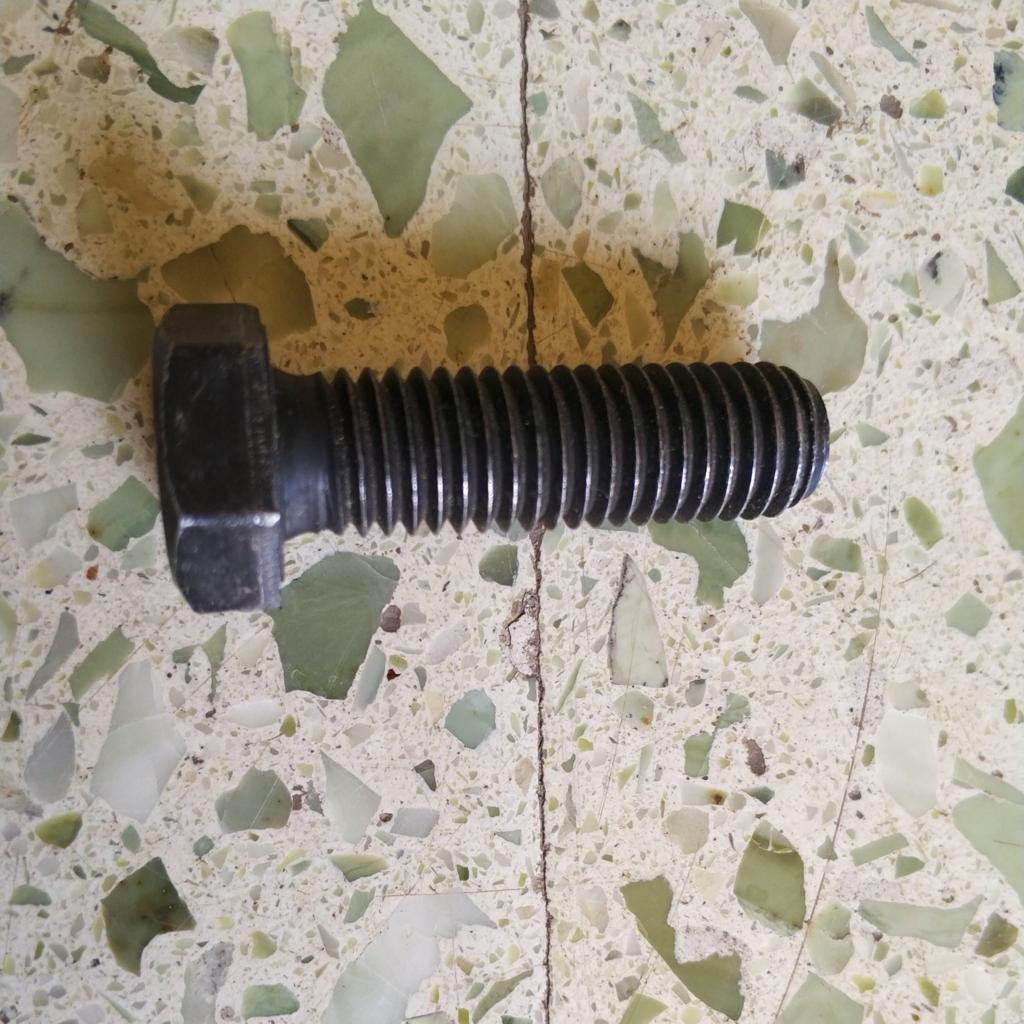screwtype2black: (142, 294, 836, 625)
